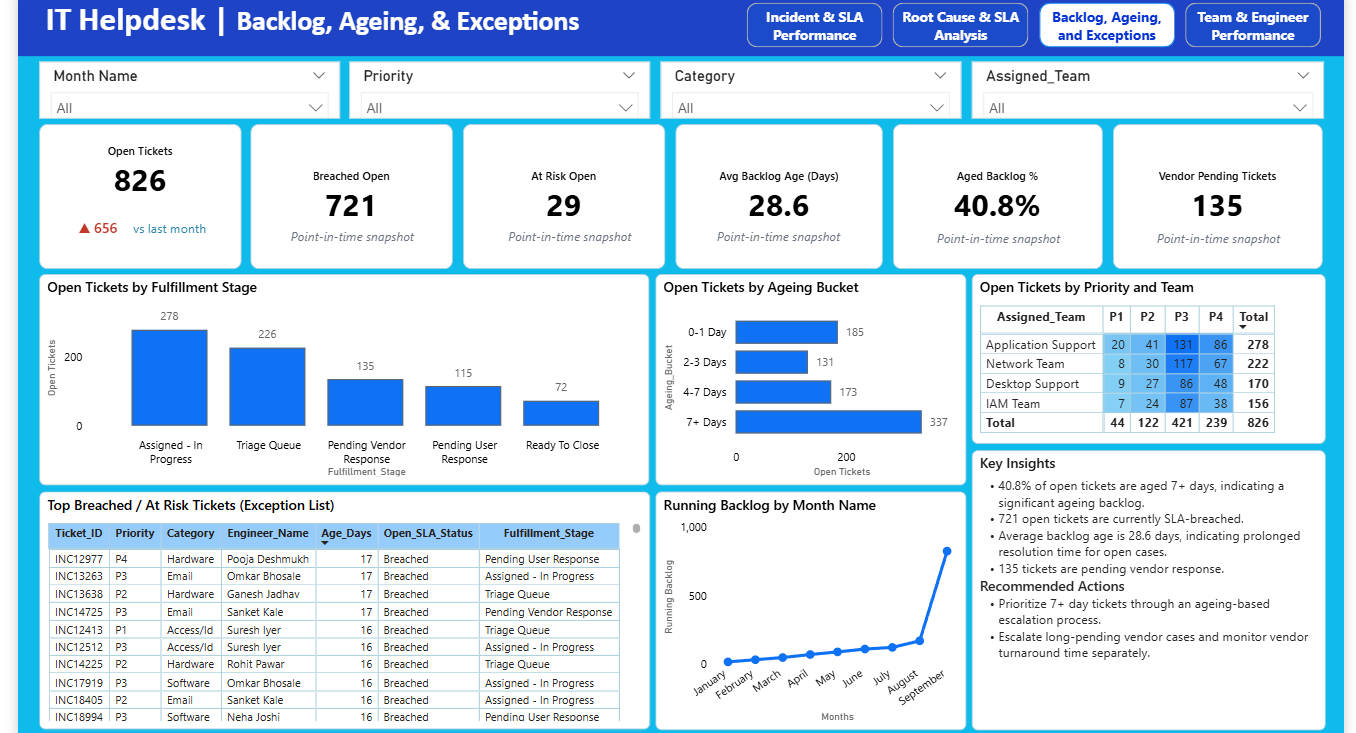

Layout of this report page (visuals, bound fields, positions):
{"tool":"powerbi","page":{"name":"Backlog, Ageing, and Exceptions","canvas":[1280,720],"ordinal":2},"visuals":[{"type":"slicer","fields":{"Values":["Dim_Date.Month Name"]},"box":[20,65,290,55],"z":0},{"type":"slicer","fields":{"Values":["Dim_Priority.Priority"]},"box":[320,65,290,55],"z":1000},{"type":"slicer","fields":{"Values":["Dim_Category.Category"]},"box":[620,65,290,55],"z":2000},{"type":"slicer","fields":{"Values":["Dim_Engineer.Assigned_Team"]},"box":[920,65,340,55],"z":3000},{"type":"clusteredBarChart","title":"Open Tickets by Ageing Bucket","fields":{"Category":["Fact_Tickets.Ageing_Bucket"],"Y":["_Measures.Open Tickets"]},"box":[615,270,300,203.8],"z":4000},{"type":"clusteredColumnChart","title":"Open Tickets by Fulfillment Stage","fields":{"Category":["Fact_Tickets.Fulfillment_Stage"],"Y":["_Measures.Open Tickets"]},"box":[20,270,588.8,203.8],"z":5000},{"type":"lineChart","fields":{"Category":["Dim_Date.Month Name"],"Y":["_Measures.Running Backlog"]},"box":[615,480,300,230],"z":6000},{"type":"pivotTable","title":"Open Tickets by Priority and Team","fields":{"Rows":["Dim_Engineer.Assigned_Team"],"Values":["_Measures.Open Tickets"],"Columns":["Dim_Priority.Priority"]},"box":[920,270,341.2,163.8],"z":7000},{"type":"tableEx","title":"Top Breached / At Risk Tickets (Exception List)","fields":{"Values":["Fact_Tickets.Ticket_ID","Dim_Priority.Priority","Dim_Category.Category","Dim_Engineer.Engineer_Name","Fact_Tickets.Age_Days","Fact_Tickets.Open_SLA_Status","Fact_Tickets.Fulfillment_Stage"]},"box":[20.2,480,589.3,229.8],"z":8000},{"type":"textbox","title":"Key Insights","box":[920,440,341.2,270],"z":9000},{"type":"cardVisual","fields":{"Data":["_Measures.At Risk Open"]},"box":[430,125,195,140],"z":10000},{"type":"cardVisual","fields":{"Data":["_Measures.Open Tickets"]},"box":[20.3,125,195,140],"z":11000},{"type":"cardVisual","fields":{"Data":["_Measures.Avg Backlog Age (Days)"]},"box":[635,125,200,140],"z":12000},{"type":"cardVisual","fields":{"Data":["_Measures.Aged Backlog %"]},"box":[845,125,202,140],"z":13000},{"type":"cardVisual","fields":{"Data":["_Measures.Vendor Pending Tickets"]},"box":[1057,125,202,140],"z":14000},{"type":"textbox","box":[0,0,1280.3,60],"z":15000},{"type":"textbox","box":[106.2,211,92.9,37.4],"z":16000},{"type":"pageNavigator","box":[703.4,8.4,555,43.4],"z":17000},{"type":"textbox","box":[456,219.6,153.2,37.4],"z":18000},{"type":"textbox","box":[666,219.6,136.3,37.4],"z":19000},{"type":"textbox","box":[877.1,220.8,138.7,35],"z":20000},{"type":"textbox","box":[1089.4,220.8,138.7,36.2],"z":21000},{"type":"cardVisual","fields":{"Data":["_Measures.Breached Open"]},"box":[225,125.5,195,140],"z":22000},{"type":"textbox","box":[254,219.9,136.5,35.4],"z":23000}]}

Visuals, with their boxes on the page's 1280x720 design canvas (x1, y1, x2, y2). These are canvas units, not pixel positions in the 1356x733 screenshot, which may show the page scaled, cropped or inside an application window:
slicer - Dim_Date.Month Name: BBox(20, 65, 310, 120)
slicer - Dim_Priority.Priority: BBox(320, 65, 610, 120)
slicer - Dim_Category.Category: BBox(620, 65, 910, 120)
slicer - Dim_Engineer.Assigned_Team: BBox(920, 65, 1260, 120)
"Open Tickets by Ageing Bucket" clusteredBarChart: BBox(615, 270, 915, 474)
"Open Tickets by Fulfillment Stage" clusteredColumnChart: BBox(20, 270, 609, 474)
lineChart - Dim_Date.Month Name x _Measures.Running Backlog: BBox(615, 480, 915, 710)
"Open Tickets by Priority and Team" pivotTable: BBox(920, 270, 1261, 434)
"Top Breached / At Risk Tickets (Exception List)" tableEx: BBox(20, 480, 610, 710)
"Key Insights" textbox: BBox(920, 440, 1261, 710)
cardVisual - _Measures.At Risk Open: BBox(430, 125, 625, 265)
cardVisual - _Measures.Open Tickets: BBox(20, 125, 215, 265)
cardVisual - _Measures.Avg Backlog Age (Days): BBox(635, 125, 835, 265)
cardVisual - _Measures.Aged Backlog %: BBox(845, 125, 1047, 265)
cardVisual - _Measures.Vendor Pending Tickets: BBox(1057, 125, 1259, 265)
textbox: BBox(0, 0, 1280, 60)
textbox: BBox(106, 211, 199, 248)
pageNavigator: BBox(703, 8, 1258, 52)
textbox: BBox(456, 220, 609, 257)
textbox: BBox(666, 220, 802, 257)
textbox: BBox(877, 221, 1016, 256)
textbox: BBox(1089, 221, 1228, 257)
cardVisual - _Measures.Breached Open: BBox(225, 126, 420, 266)
textbox: BBox(254, 220, 390, 255)
